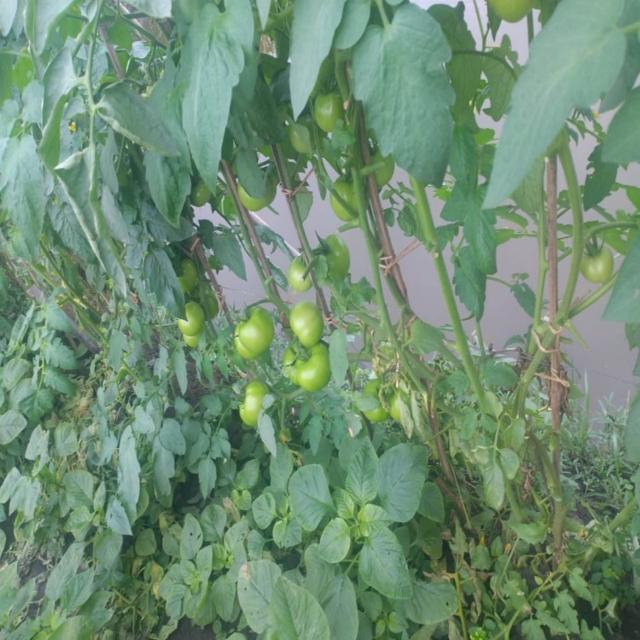tomato: (298, 342, 338, 391), (239, 309, 272, 356), (583, 242, 620, 282), (331, 178, 359, 220), (324, 236, 353, 275), (293, 307, 324, 341), (313, 91, 340, 130), (242, 383, 266, 426), (492, 1, 534, 25), (183, 304, 209, 336), (291, 125, 310, 156), (237, 195, 264, 213), (293, 266, 311, 292), (193, 188, 207, 203)
